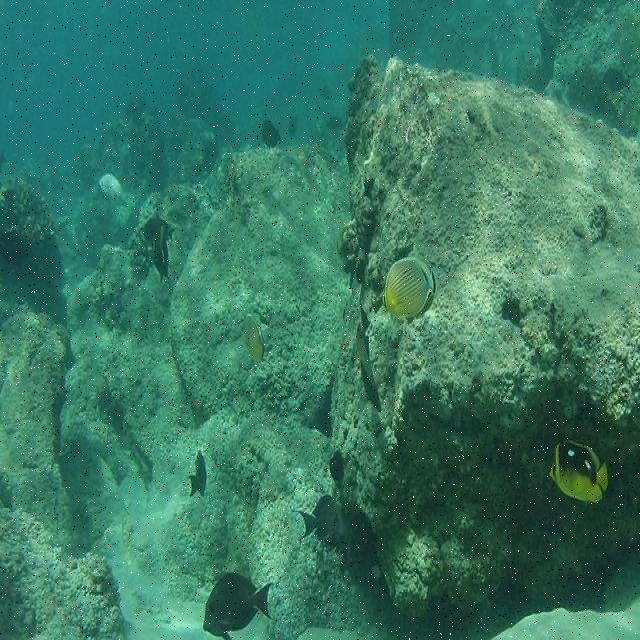fish: (202, 577, 276, 636), (551, 441, 608, 503), (383, 256, 435, 318), (245, 317, 269, 367), (98, 172, 129, 207), (188, 452, 208, 499)
sea-floor: (0, 0, 639, 639)
